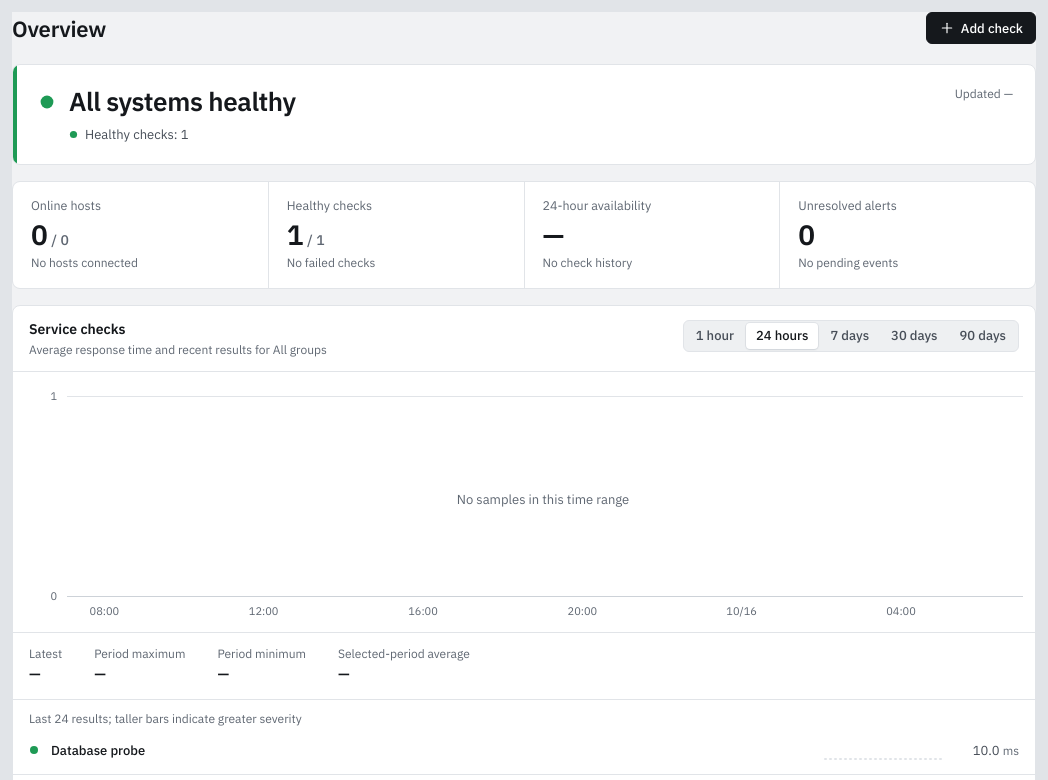
Test: uses the selected long range for overview totals and chart requests
Click the button "30 days".
click(914, 336)  # box [881, 323, 948, 349]
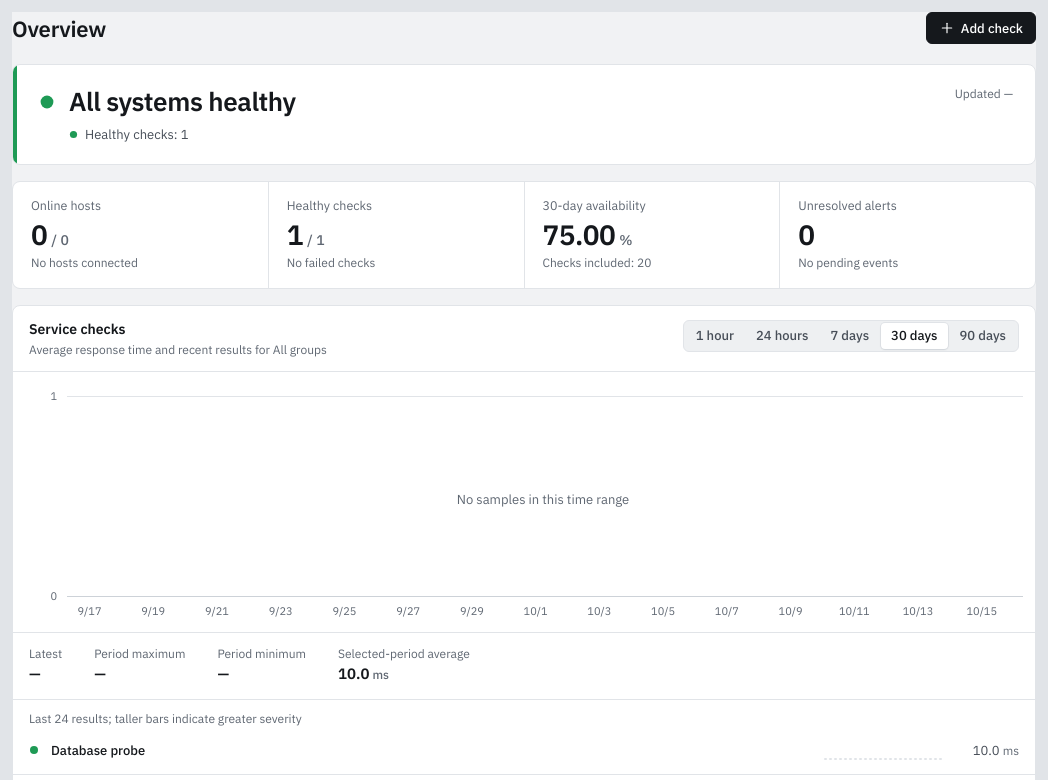
Now the text "30-day availability" is shown, box [542, 197, 646, 213]
Click the button "90 days".
click(983, 336)  # box [950, 323, 1016, 349]
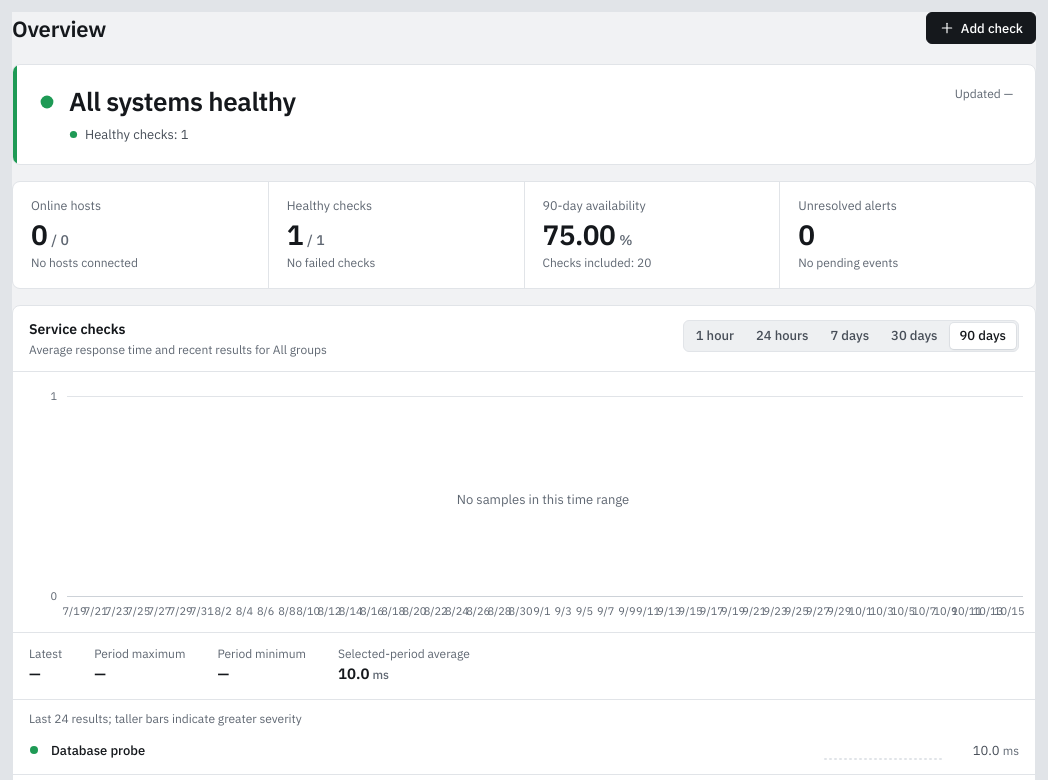
Now the text "90-day availability" is shown, box [542, 197, 646, 213]
